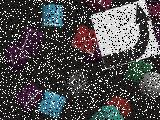Left: (90, 0, 160, 70)
